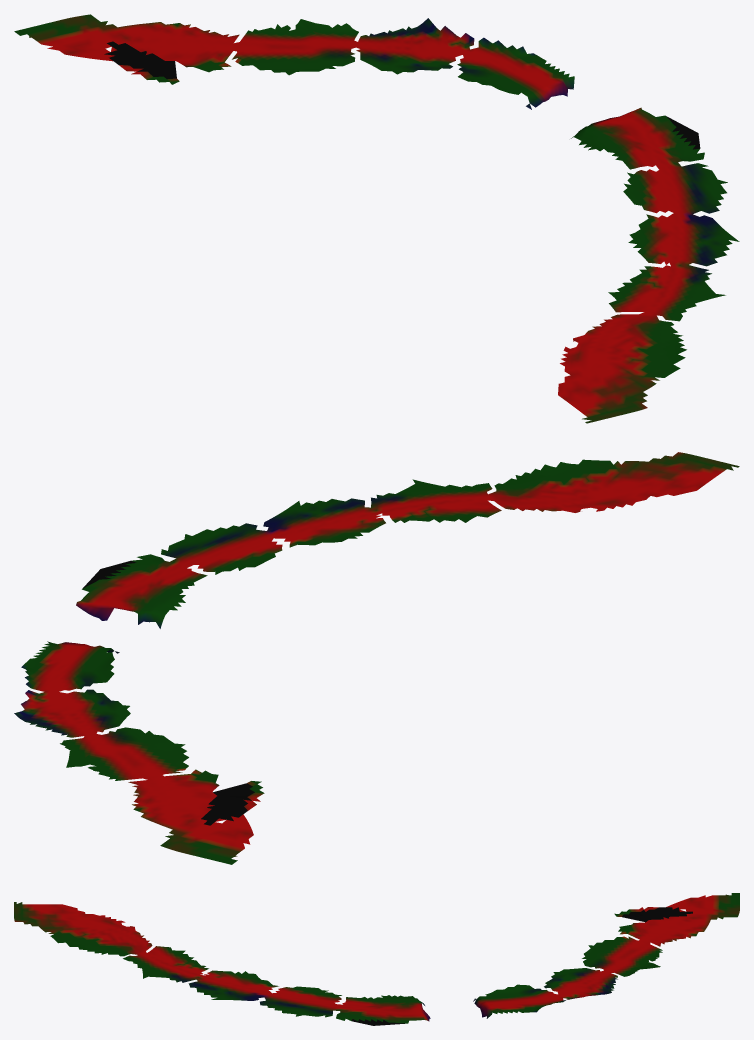
The model's file is nav_bot.fbx.
The picture shows the model from 3 angles, top to bottom: view 1: azimuth 30°, elevation 25°; view 2: azimuth 150°, elevation 25°; view 3: azimuth 270°, elevation 25°; orthographic projection. The views are drawn at different scales.
Parts seen in each view (by area): view 1: Group5; view 2: Group5; view 3: Group5.
Boxes of the visible parts, bbox=[...] form: Group5: bbox=[14, 14, 739, 423]; Group5: bbox=[14, 452, 739, 864]; Group5: bbox=[14, 893, 739, 1025].
Size of the model in its own units: 162 by 6.89 by 375.
